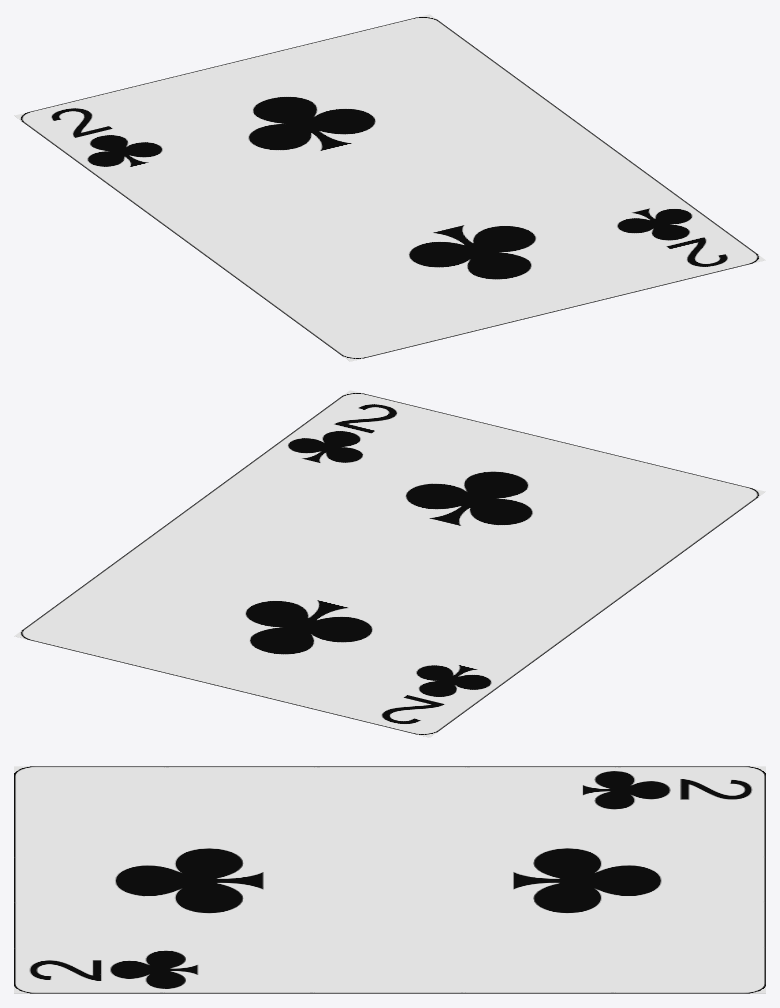
File: Card.fbx
3 views of the same model, one above another, from view 1: azimuth 30°, elevation 25°; view 2: azimuth 150°, elevation 25°; view 3: azimuth 270°, elevation 25° (orthographic). The views are drawn at different scales.
Parts seen in each view (by area): view 1: Plane; view 2: Plane; view 3: Plane.
Part boxes in pixels (x1,y1,x2,y2): Plane: [14, 14, 765, 361]; Plane: [14, 390, 765, 737]; Plane: [14, 766, 765, 993].
Size of the model in its own units: 500 by 0.1 by 700.
